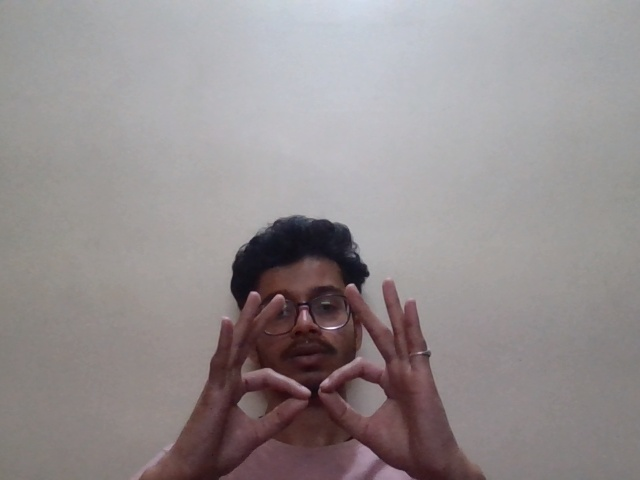nice: (193, 282, 454, 473)
